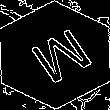M_SE: (18, 22, 92, 88)
